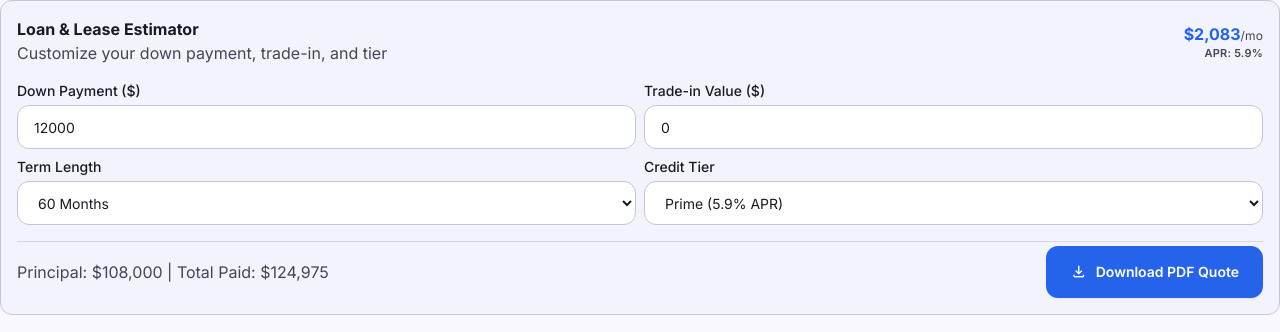
Test: FinancingQuotePanel Component Tests › updates estimated monthly payment when down payment, term, or credit tier changes
Expected: the element with test id "monthly-payment-display" reads "$2,083/mo", [1184,24,1241,44]
Change down payment to 40000
Replace the text in the number field with test id "down-payment-input" with "40000" at [326, 127], box [17,105,636,149]
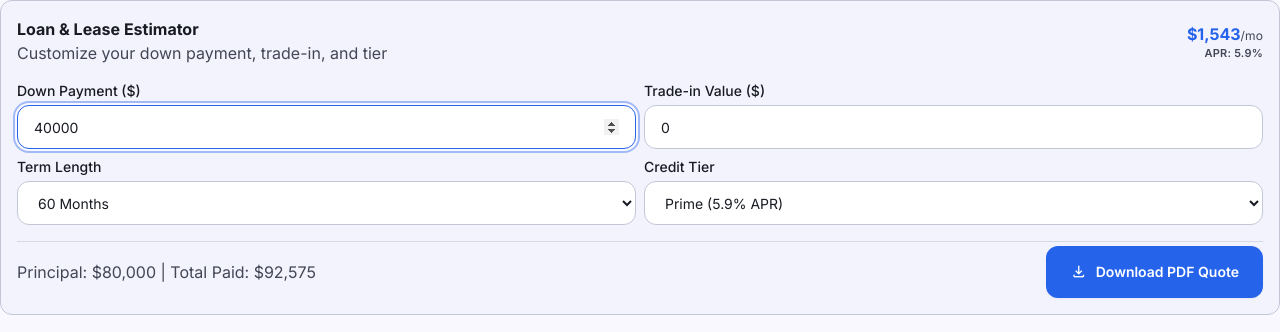
Expected: the element with test id "monthly-payment-display" reads "$1,543/mo", [1187,24,1241,44]
Change credit tier to "subprime" (15.9%)
Select "Subprime (15.9% APR)" in the dropdown with test id "credit-tier-select" at [954, 203], box [644,181,1263,225]
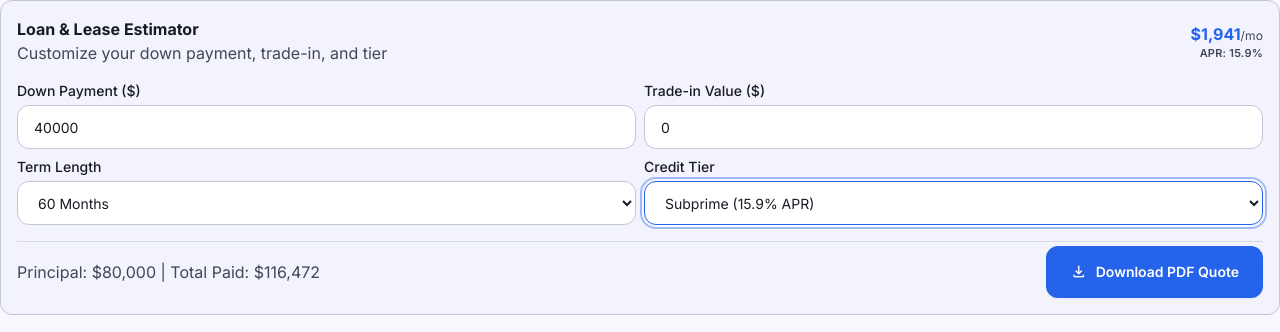
Expected: the element with test id "monthly-payment-display" shows "$1,941", [1191,24,1241,44]
